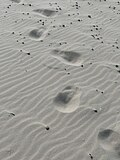human_foot_print: (53, 85, 85, 111), (50, 45, 84, 66), (98, 125, 120, 149), (32, 7, 60, 21), (28, 25, 46, 41)
